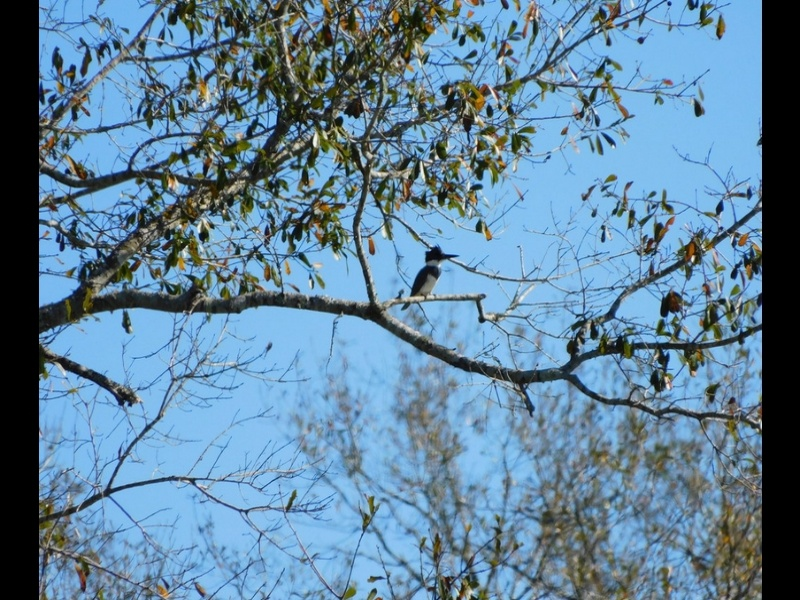kingfisher: (402, 244, 458, 311)
